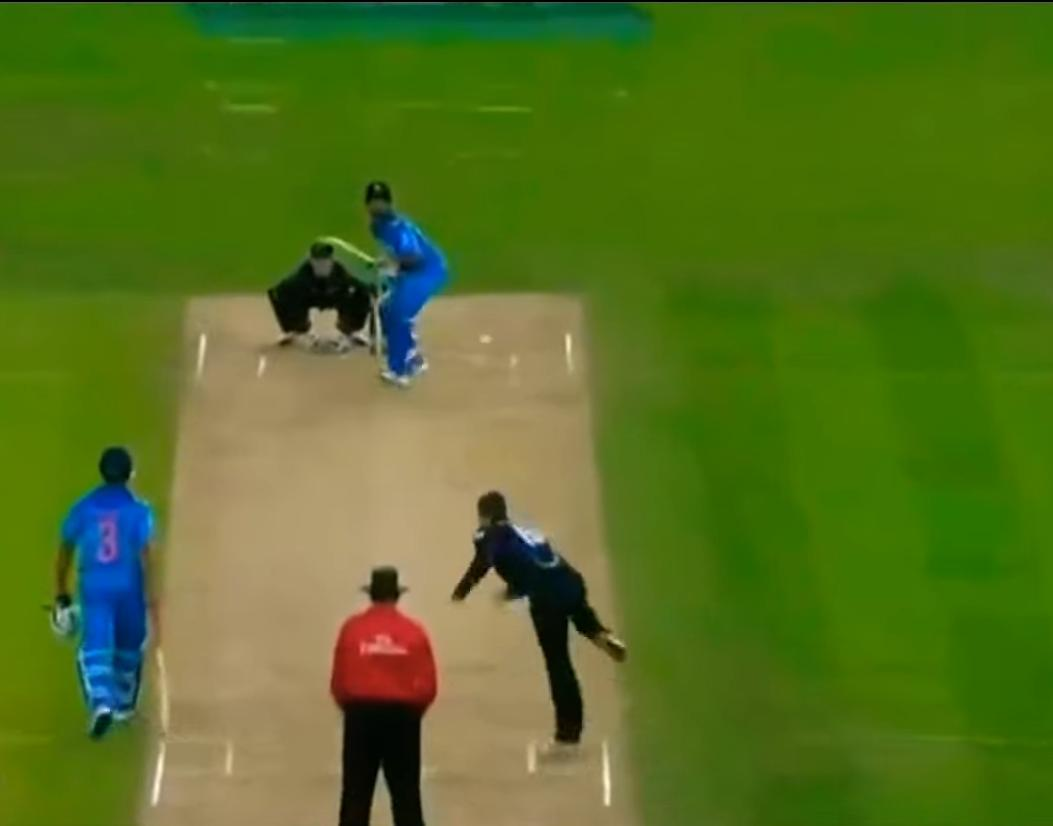Cricket-Ball: (470, 330, 501, 351)
